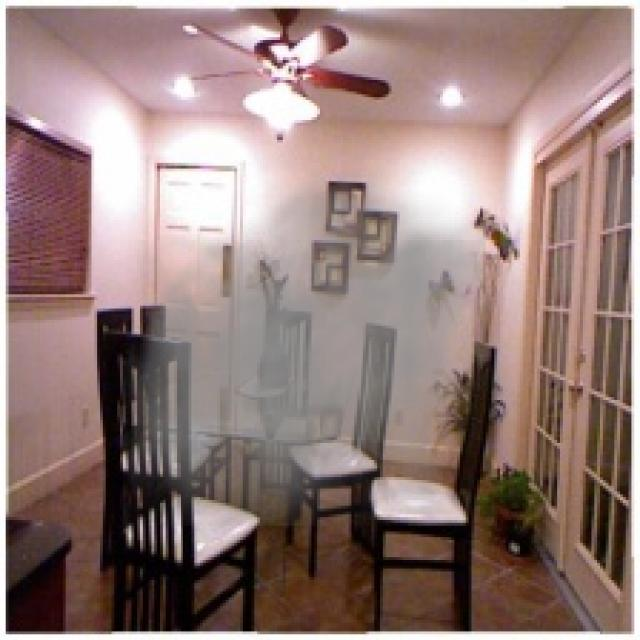smoke: (123, 157, 486, 526)
